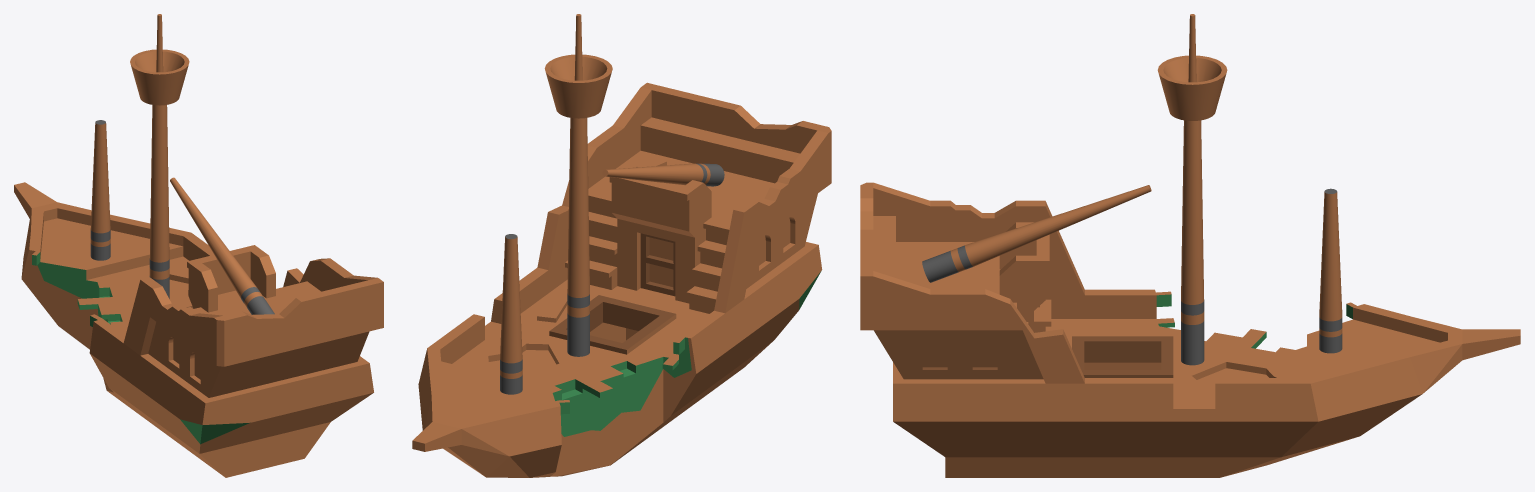
The model's file is ship_wreck.fbx.
3 views of the same model, side by side, from view 1: azimuth 30°, elevation 25°; view 2: azimuth 150°, elevation 25°; view 3: azimuth 270°, elevation 25° (orthographic). The views are drawn at different scales.
Parts seen in each view (by area): view 1: ship_wreck_8angles; view 2: ship_wreck_8angles; view 3: ship_wreck_8angles.
Part boxes in pixels (x1,y1,x2,y2): ship_wreck_8angles: (14, 14, 383, 477); ship_wreck_8angles: (412, 14, 831, 477); ship_wreck_8angles: (860, 14, 1520, 477).
Bounding box in the file's own units: 28.5 × 59.21 × 80.49.
